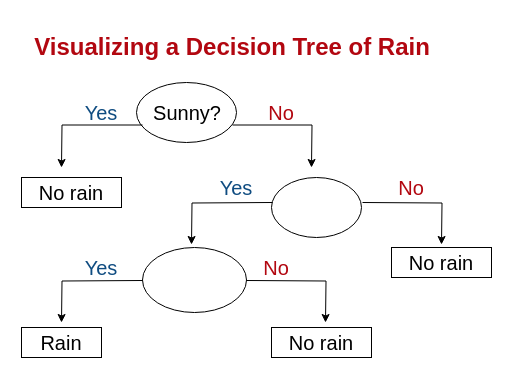
This 509x375 diagram has some shape labels left out. Each missing label, with the box of its shape:
Cloudy?: (270, 176, 362, 238)
Temp below 10 °C: (142, 246, 246, 312)
